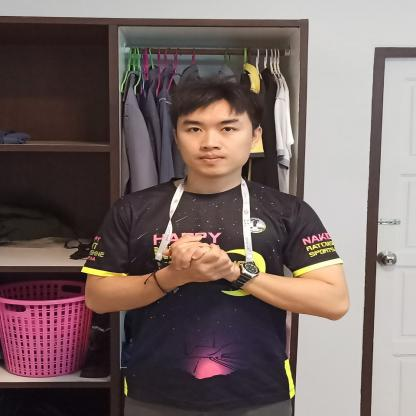Grieve: (132, 228, 285, 312)
